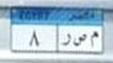8: (28, 29, 41, 48)
meem: (89, 30, 100, 50)
raa: (61, 33, 72, 47)
saad: (73, 32, 88, 48)
